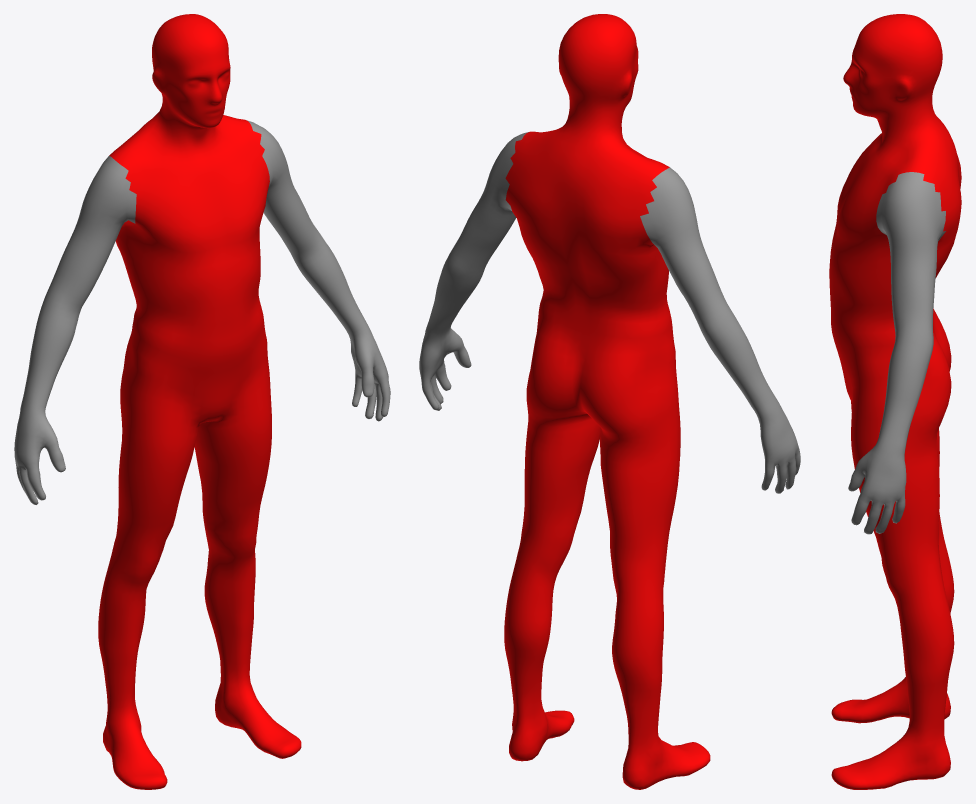
The model's file is Arms Detached.FBX.
3 views of the same model, side by side, from view 1: azimuth 30°, elevation 25°; view 2: azimuth 150°, elevation 25°; view 3: azimuth 270°, elevation 25° (orthographic).
Parts seen in each view (by area): view 1: Object001, humanBody_1; view 2: Object001, humanBody_1; view 3: Object001, humanBody_1.
Part boxes in pixels (x1=…): Object001: x1=98, y1=14, x2=301, y2=789; humanBody_1: x1=14, y1=120, x2=390, y2=504; Object001: x1=504, y1=14, x2=710, y2=789; humanBody_1: x1=419, y1=132, x2=800, y2=493; Object001: x1=829, y1=14, x2=961, y2=789; humanBody_1: x1=848, y1=172, x2=945, y2=534.
Size of the model in its own units: 95.48 by 29.88 by 183.
